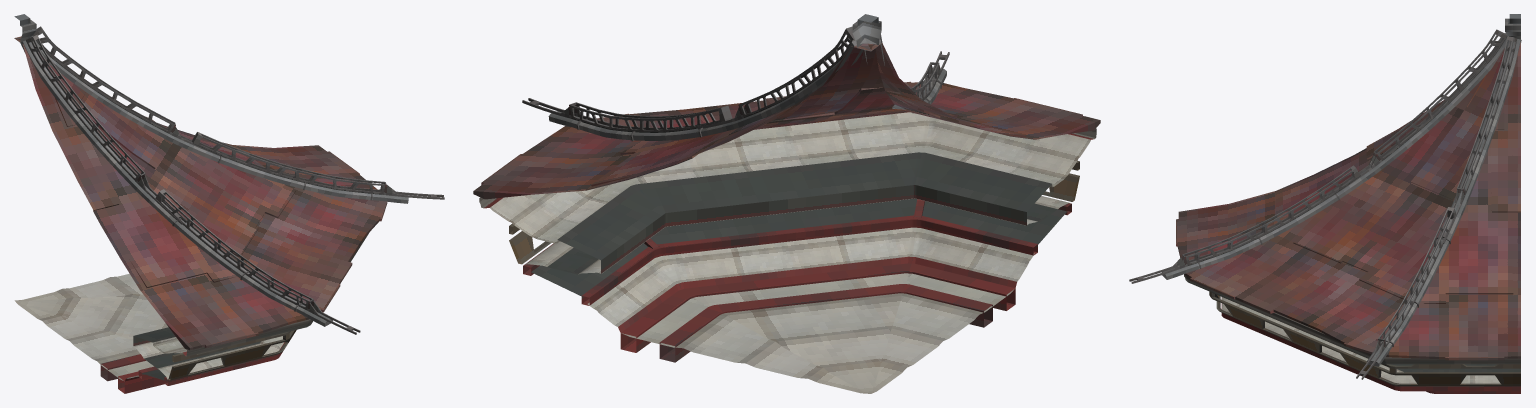
Rendered from Pagoda_Tile_Roof_Corner_Octo_5000x5000_A.FBX.
3 renders of one model, left to right at view 1: azimuth 30°, elevation 25°; view 2: azimuth 150°, elevation 25°; view 3: azimuth 270°, elevation 25°, orthographic. The views are drawn at different scales.
Parts seen in each view (by area): view 1: Geometry_Pagoda_Tile_Roof_Corner_Octo_5000x5000_A_LOD00; view 2: Geometry_Pagoda_Tile_Roof_Corner_Octo_5000x5000_A_LOD00; view 3: Geometry_Pagoda_Tile_Roof_Corner_Octo_5000x5000_A_LOD00.
Boxes of the visible parts, <box> form: Geometry_Pagoda_Tile_Roof_Corner_Octo_5000x5000_A_LOD00: <box>14,14,444,393</box>; Geometry_Pagoda_Tile_Roof_Corner_Octo_5000x5000_A_LOD00: <box>473,14,1100,393</box>; Geometry_Pagoda_Tile_Roof_Corner_Octo_5000x5000_A_LOD00: <box>1129,14,1521,393</box>.
Size of what is drawn, in the model's own units: 5839 by 4742 by 5838.
